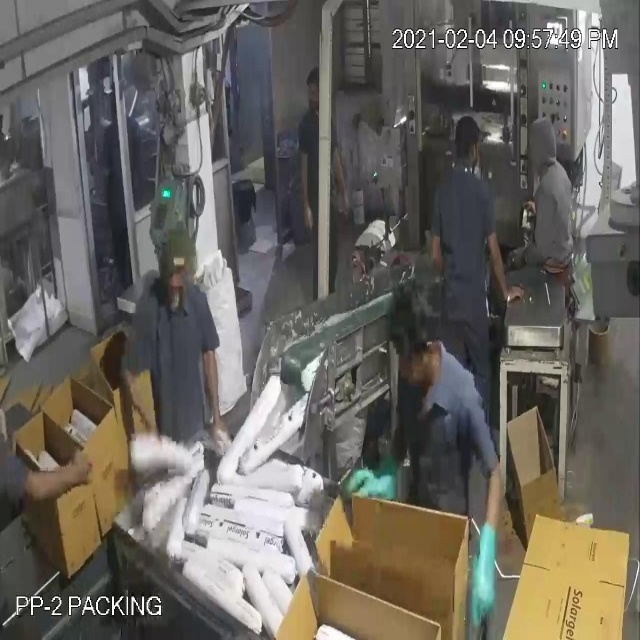Guantes: (462, 444, 509, 635), (334, 412, 409, 517)
Sin_guantes: (12, 428, 105, 525), (119, 342, 174, 465), (200, 315, 236, 460), (482, 215, 529, 318), (321, 128, 350, 227), (293, 148, 320, 237), (425, 220, 446, 279)
